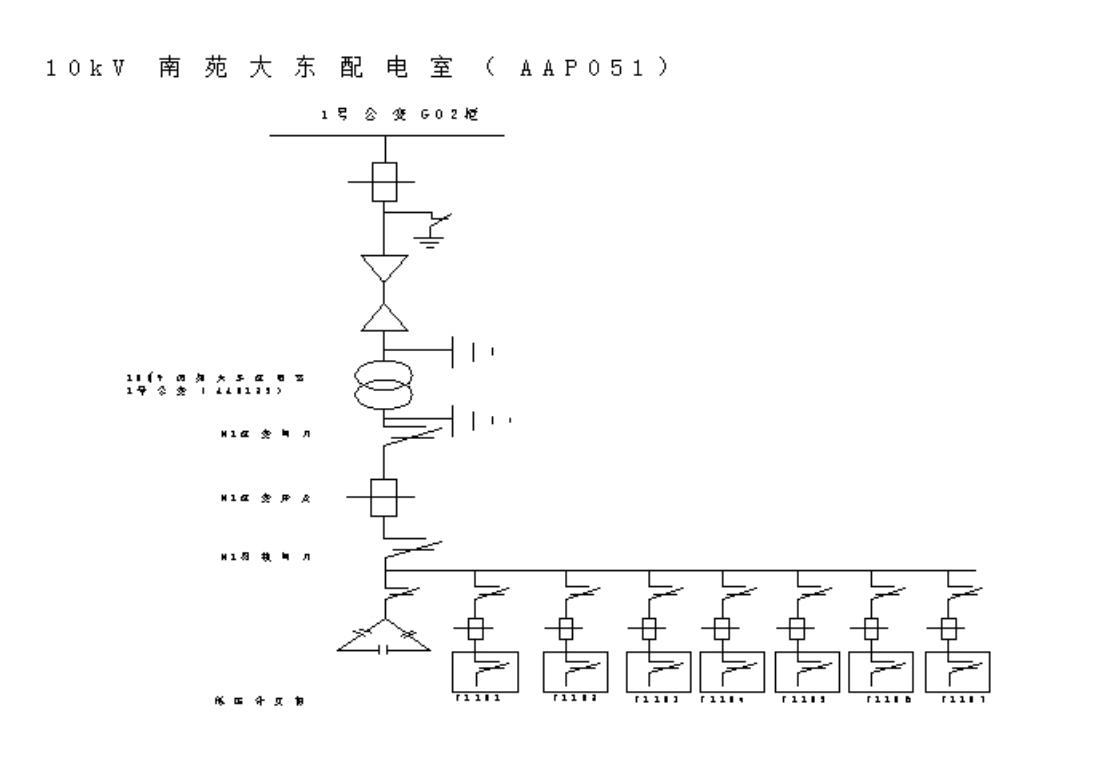t1: (347, 618, 376, 643), (370, 637, 394, 661), (392, 623, 422, 642)
t15: (356, 241, 412, 342)
t25: (343, 352, 425, 415)
t28: (770, 646, 842, 694), (921, 646, 993, 694), (696, 645, 767, 693), (538, 648, 612, 694), (844, 646, 916, 692), (450, 649, 521, 692), (624, 650, 692, 690), (378, 413, 437, 456), (380, 528, 440, 561), (938, 573, 983, 610), (377, 573, 420, 609), (789, 574, 830, 610), (465, 575, 512, 606), (556, 575, 598, 609), (864, 578, 907, 608), (642, 578, 683, 609), (718, 575, 754, 609), (415, 204, 453, 230)
t7: (339, 152, 421, 209), (342, 470, 422, 526), (444, 611, 501, 644), (536, 614, 590, 644), (625, 611, 667, 645), (921, 613, 968, 643), (773, 616, 817, 646), (701, 614, 743, 644), (848, 612, 888, 643)
t8: (441, 398, 525, 441), (437, 328, 500, 370)
